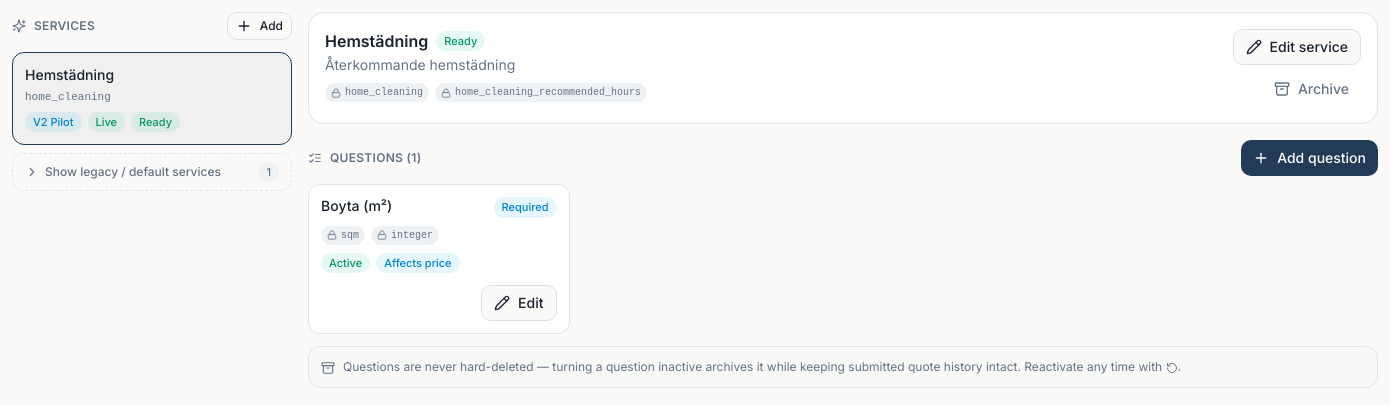
Test: ServicesFieldsEditor — readiness (Slice 12C/12E) › shows readiness badges (Ready for complete, Unsupported pricing for template)
expect the 2nd text "Ready" is shown: met, box [131,112,180,132]
What coordinates should you click on to do the following:
click the button "Show legacy / default services 1"
I would click on:
 (152, 172)
Its box is [12,153,292,191].
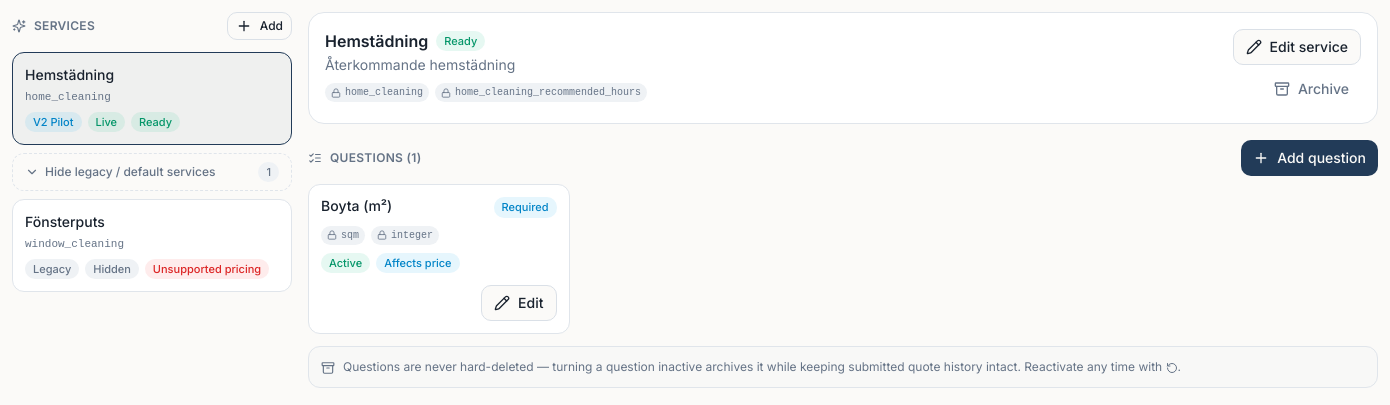
expect the text "Unsupported pricing" is shown: met, box [145,258,269,279]
